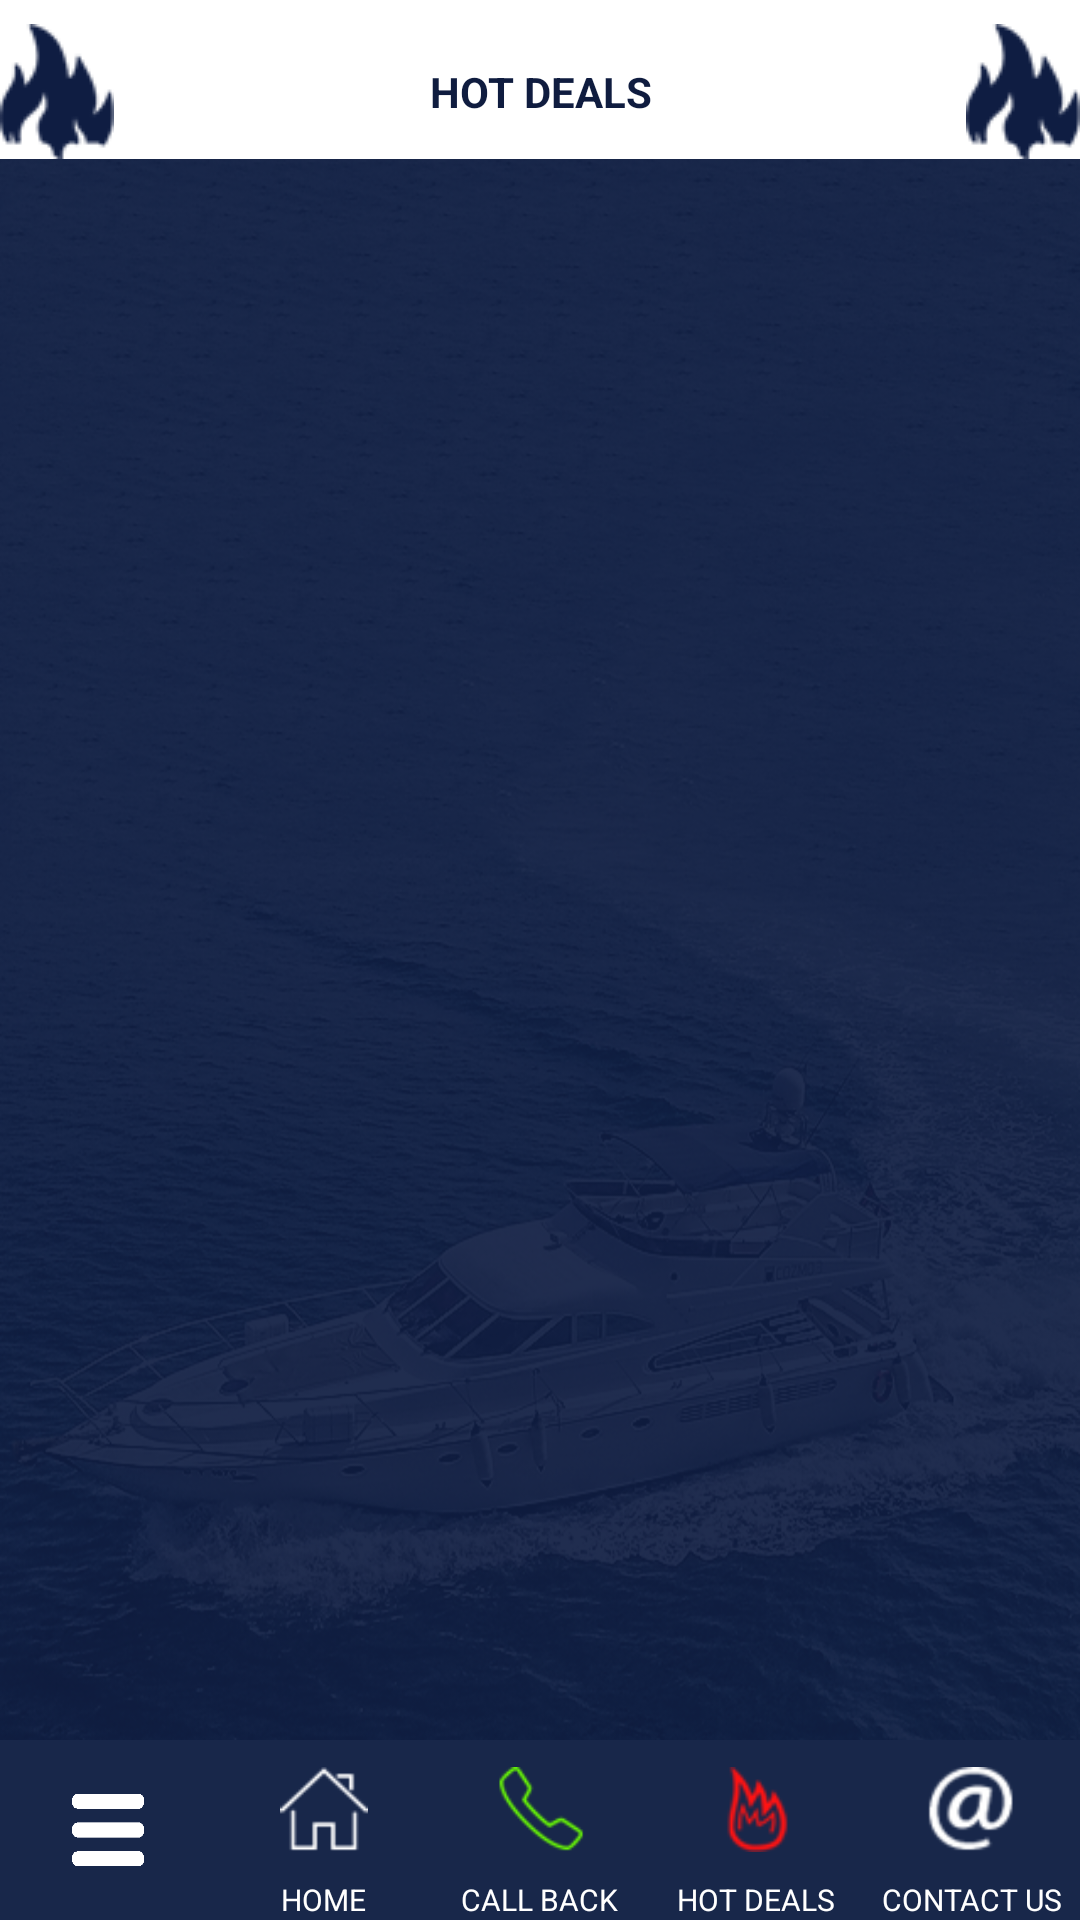

Icon bounding boxes for this 1080×1920 phone screenshot, format (x1, y1, x2, y2):
menu: (72, 1794, 144, 1866)
phone: (499, 1767, 583, 1851)
